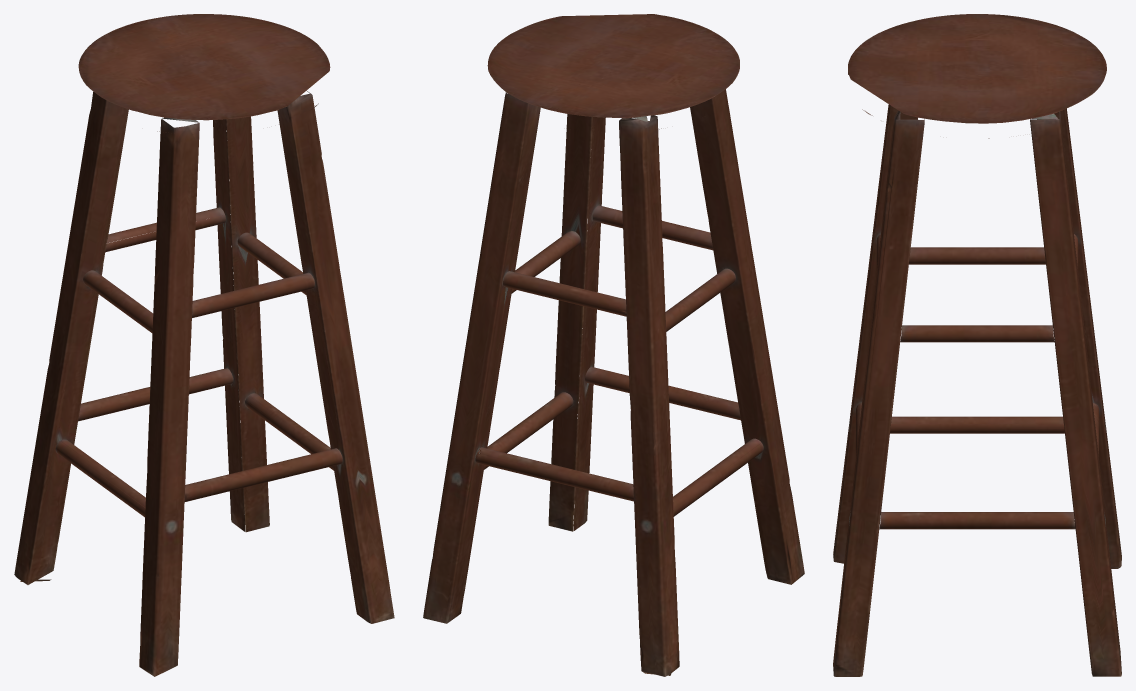
File: furniture_highstool_a01.glb
3 views of the same model, side by side, from view 1: azimuth 30°, elevation 25°; view 2: azimuth 150°, elevation 25°; view 3: azimuth 270°, elevation 25° (orthographic). The views are drawn at different scales.
Parts seen in each view (by area): view 1: sm_furniture_highstool_a01_01; view 2: sm_furniture_highstool_a01_01; view 3: sm_furniture_highstool_a01_01.
Boxes of the visible parts, x1,y1,x2,y2 form: sm_furniture_highstool_a01_01: (14, 14, 394, 676); sm_furniture_highstool_a01_01: (423, 14, 804, 676); sm_furniture_highstool_a01_01: (833, 14, 1121, 676).
Size of the model in its own units: 0.3341 by 0.7006 by 0.3334.
Materials: 1 (1 with a texture image).
